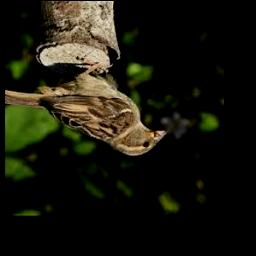Sparrow: (5, 65, 167, 157)
